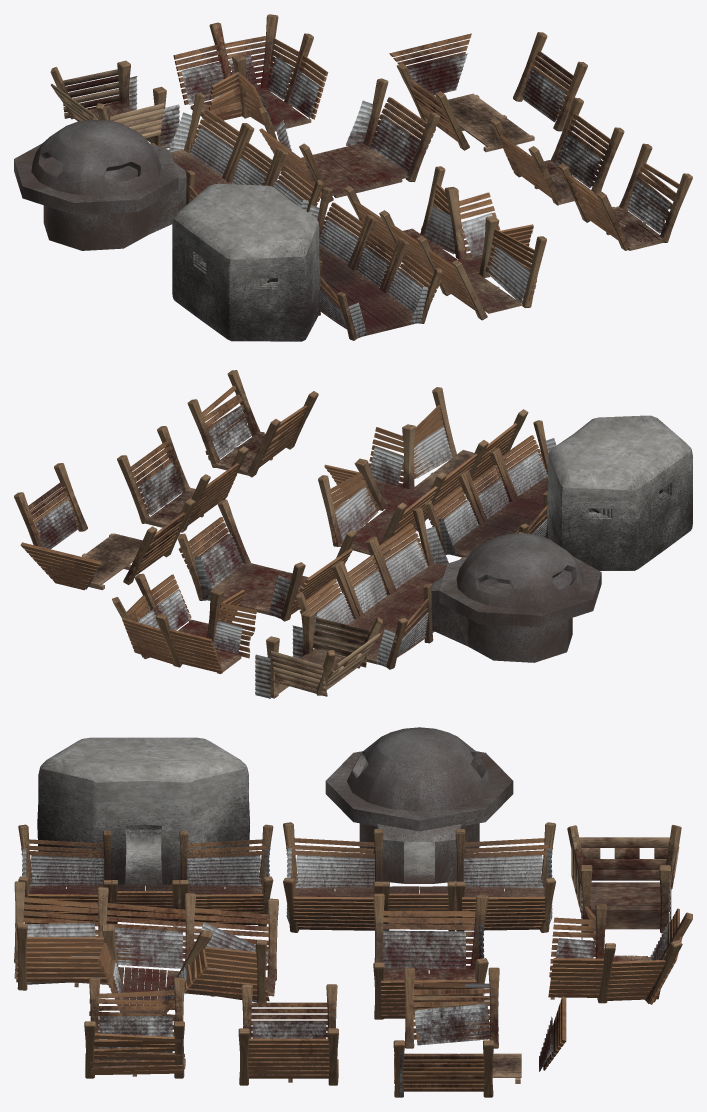
The model's file is trench_set.glb.
3 renders of one model, top to bottom at view 1: azimuth 30°, elevation 25°; view 2: azimuth 150°, elevation 25°; view 3: azimuth 270°, elevation 25°, orthographic. The views are drawn at different scales.
Visible parts, largest first — view 1: Object359_Bunker section_0, Sphere002_Bunker Type 2 section_0, Object173_Three way section_0, Object198_Corner section_0, Box108_Wide section_0, Box019_Straight section_0, Plane011_Straight section(unedited)_0, Object204_Elavated Pit Section_0, Plane007_Left section_0, Plane015, Box092_Floor section_0, Box088_Right section_0; view 2: Object359_Bunker section_0, Sphere002_Bunker Type 2 section_0, Object173_Three way section_0, Object198_Corner section_0, Box108_Wide section_0, Object204_Elavated Pit Section_0, Box019_Straight section_0, Plane011_Straight section(unedited)_0, Plane007_Left section_0, Plane015, Box088_Right section_0, Box092_Floor section_0; view 3: Object359_Bunker section_0, Sphere002_Bunker Type 2 section_0, Object173_Three way section_0, Box108_Wide section_0, Object204_Elavated Pit Section_0, Object198_Corner section_0, Box019_Straight section_0, Plane011_Straight section(unedited)_0, Box088_Right section_0, Plane007_Left section_0, Plane015, Box092_Floor section_0.
Part boxes in pixels (x1=…): Object359_Bunker section_0: x1=172, y1=183, x2=442, y2=341; Sphere002_Bunker Type 2 section_0: x1=14, y1=93, x2=323, y2=250; Object173_Three way section_0: x1=344, y1=166, x2=546, y2=320; Object198_Corner section_0: x1=173, y1=14, x2=328, y2=131; Box108_Wide section_0: x1=258, y1=78, x2=440, y2=202; Box019_Straight section_0: x1=558, y1=143, x2=692, y2=250; Plane011_Straight section(unedited)_0: x1=490, y1=97, x2=624, y2=205; Object204_Elavated Pit Section_0: x1=50, y1=60, x2=179, y2=148; Plane007_Left section_0: x1=513, y1=32, x2=587, y2=131; Plane015: x1=389, y1=33, x2=471, y2=95; Box092_Floor section_0: x1=448, y1=93, x2=534, y2=152; Box088_Right section_0: x1=397, y1=63, x2=469, y2=150; Object359_Bunker section_0: x1=424, y1=415, x2=692, y2=570; Sphere002_Bunker Type 2 section_0: x1=296, y1=507, x2=601, y2=669; Object173_Three way section_0: x1=318, y1=387, x2=528, y2=555; Object198_Corner section_0: x1=112, y1=573, x2=256, y2=673; Box108_Wide section_0: x1=177, y1=499, x2=356, y2=621; Object204_Elavated Pit Section_0: x1=255, y1=610, x2=382, y2=698; Box019_Straight section_0: x1=187, y1=370, x2=318, y2=477; Plane011_Straight section(unedited)_0: x1=117, y1=426, x2=248, y2=532; Plane007_Left section_0: x1=14, y1=463, x2=87, y2=549; Plane015: x1=20, y1=542, x2=101, y2=590; Box088_Right section_0: x1=123, y1=498, x2=195, y2=584; Box092_Floor section_0: x1=82, y1=533, x2=142, y2=590; Object359_Bunker section_0: x1=18, y1=737, x2=273, y2=926; Sphere002_Bunker Type 2 section_0: x1=283, y1=727, x2=555, y2=932; Object173_Three way section_0: x1=14, y1=881, x2=278, y2=1014; Box108_Wide section_0: x1=373, y1=893, x2=488, y2=1019; Object204_Elavated Pit Section_0: x1=567, y1=825, x2=681, y2=939; Object198_Corner section_0: x1=548, y1=904, x2=692, y2=1004; Box019_Straight section_0: x1=84, y1=977, x2=185, y2=1078; Plane011_Straight section(unedited)_0: x1=238, y1=984, x2=338, y2=1085; Box088_Right section_0: x1=403, y1=967, x2=499, y2=1048; Plane007_Left section_0: x1=393, y1=1040, x2=493, y2=1097; Plane015: x1=539, y1=996, x2=566, y2=1071; Box092_Floor section_0: x1=394, y1=1053, x2=521, y2=1083.
Size of the model in its own units: 22.62 by 4.99 by 21.84.
Materials: 12 (12 with a texture image).
